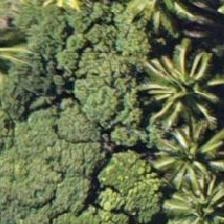coconut_tree: (146, 49, 223, 139), (149, 117, 223, 207), (158, 169, 223, 223)
